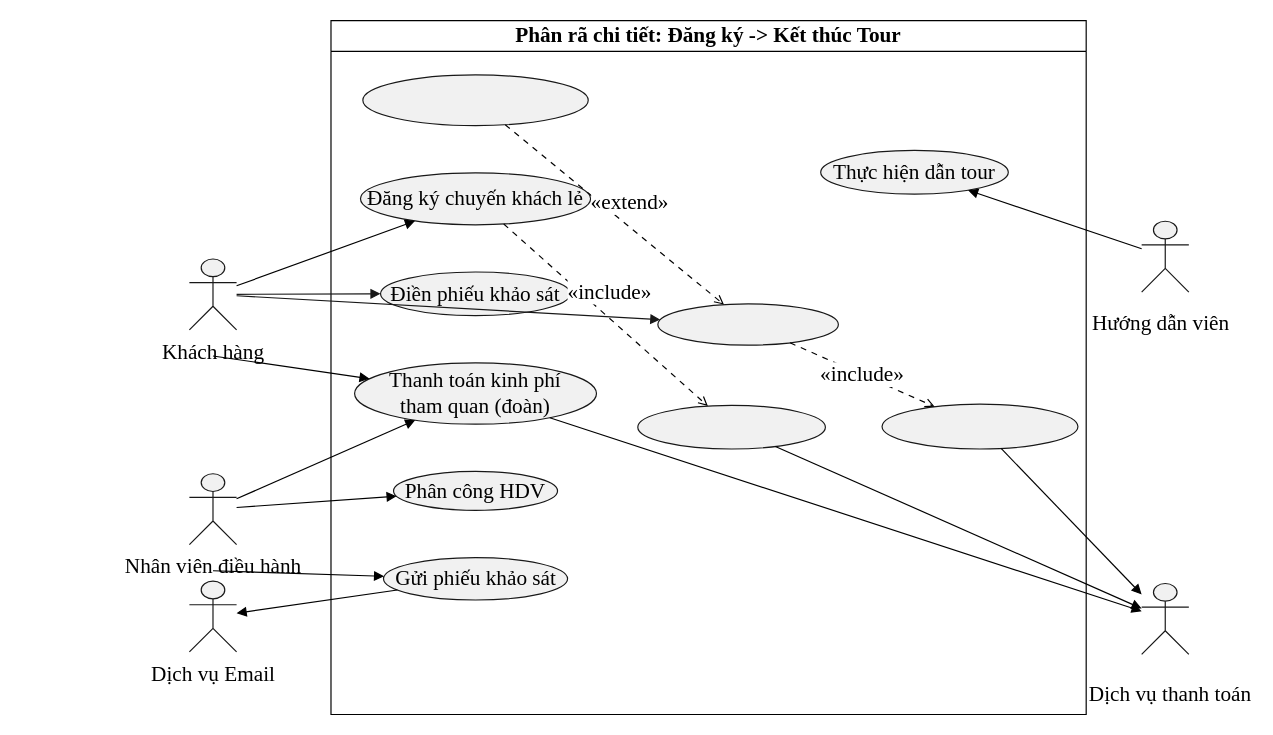
The diagram is 1273 pixels wide and 735 high, and some of its shapes have lost their labels. The shapes that lost their labels are listed below. From the top down, each one's centre as x and y in pixels, then its label:
pixel 475 100: Nộp danh sách bảo hiểm
pixel 747 324: Đăng ký tour đoàn
pixel 731 426: Thanh toán tiền vé
pixel 979 426: Thanh toán tiền cọc
